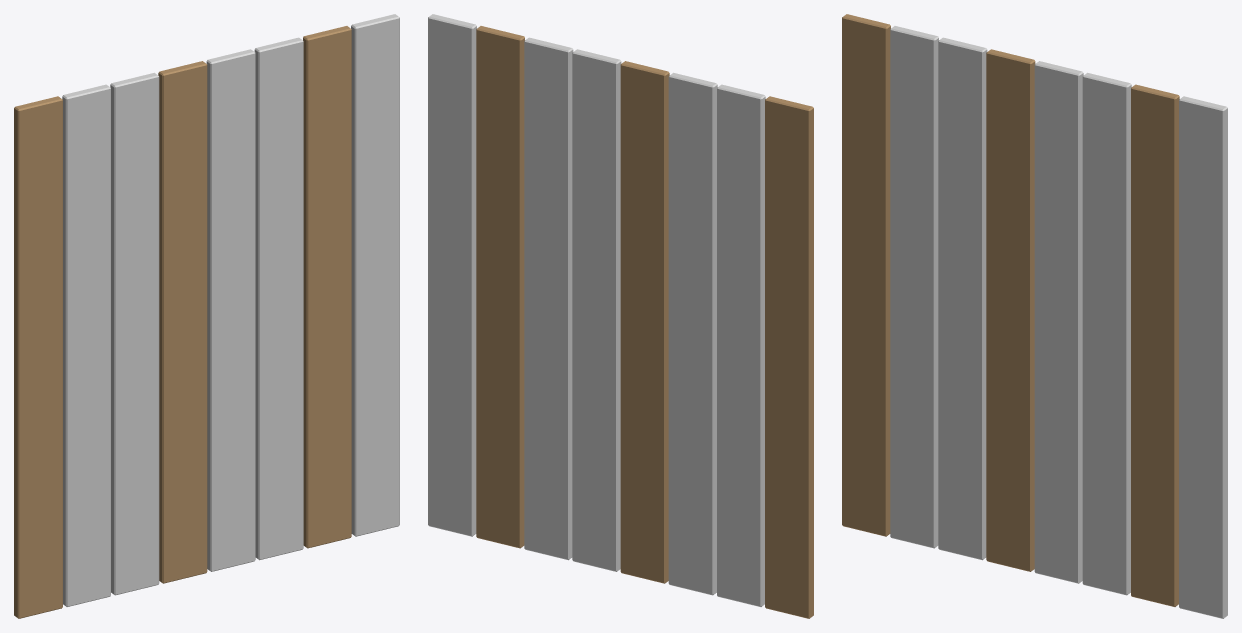
File: Module_Wooden_Back_Slats.fbx
3 renders of one model, left to right at view 1: azimuth 30°, elevation 25°; view 2: azimuth 150°, elevation 25°; view 3: azimuth 330°, elevation 25°, orthographic.
Visible parts, largest first — view 1: Module_Wooden_Back_Slats__LPCXFER; view 2: Module_Wooden_Back_Slats__LPCXFER; view 3: Module_Wooden_Back_Slats__LPCXFER.
Boxes of the visible parts, <box> form: Module_Wooden_Back_Slats__LPCXFER: <box>14,14,399,618</box>; Module_Wooden_Back_Slats__LPCXFER: <box>428,14,813,618</box>; Module_Wooden_Back_Slats__LPCXFER: <box>842,14,1227,618</box>.
Size of the model in its own units: 135 by 172 by 3.
